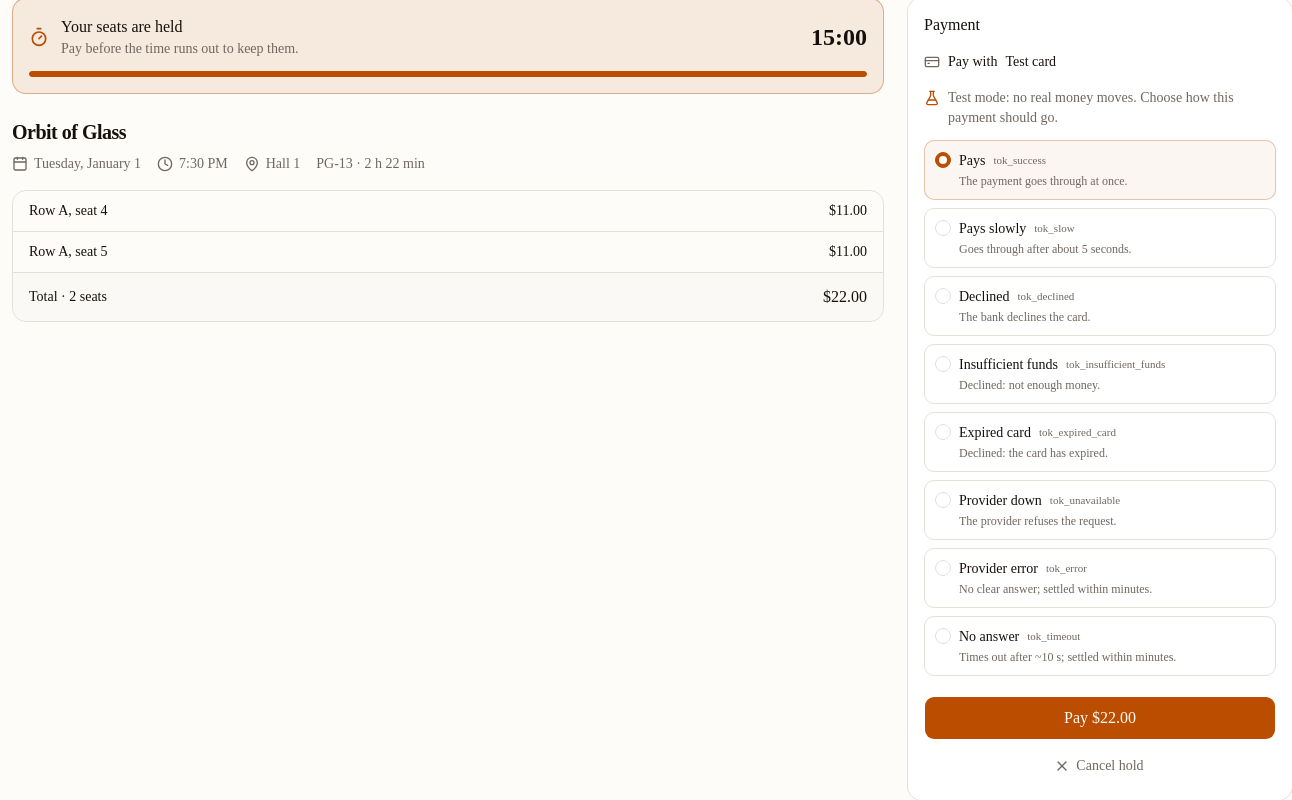
CheckoutView › PAYMENT_IN_PROGRESS: another payment is in flight, so it is followed like a 202
The image size is (1292, 800).
(page scrolled)
Click the button "Pay $22.00": (1100, 718) [924,696,1276,740]
(page scrolled)
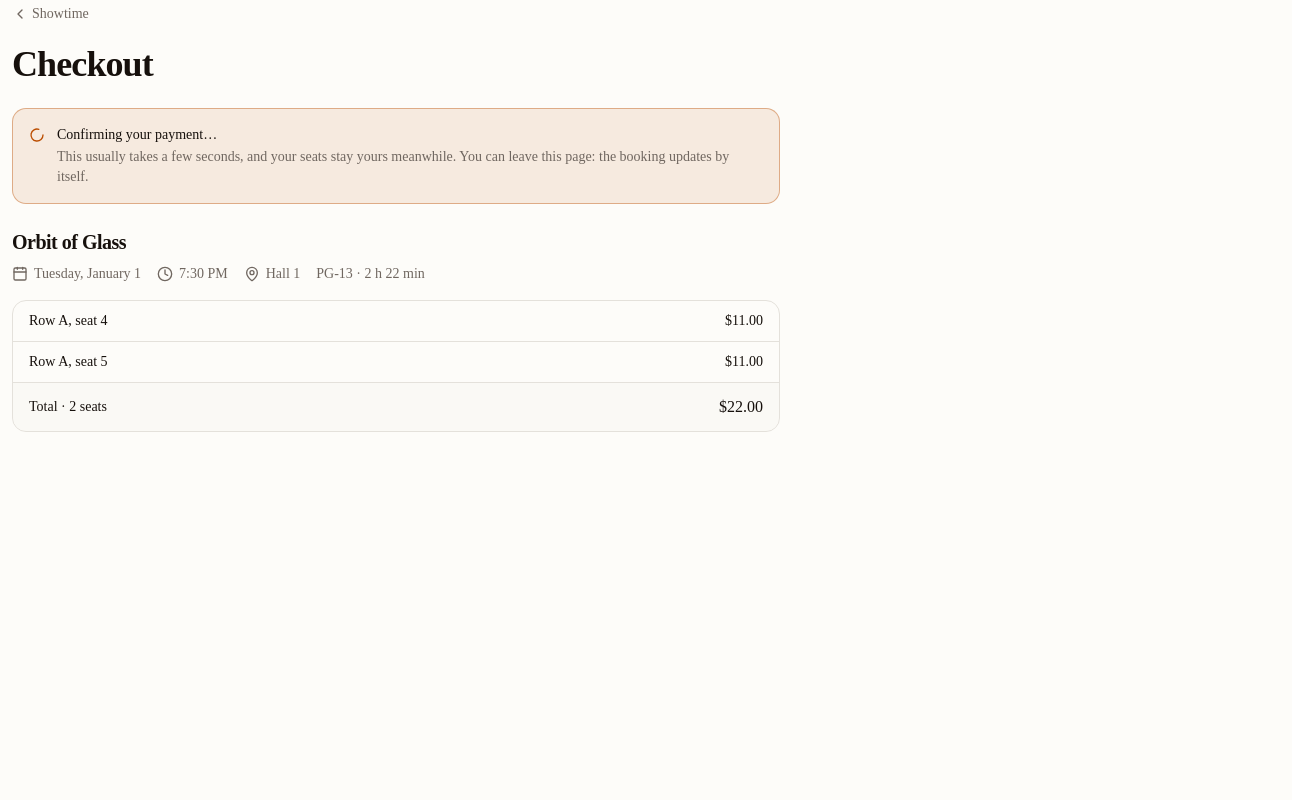
Result: the text "Confirming your payment…" is shown at [57,127,217,142]
